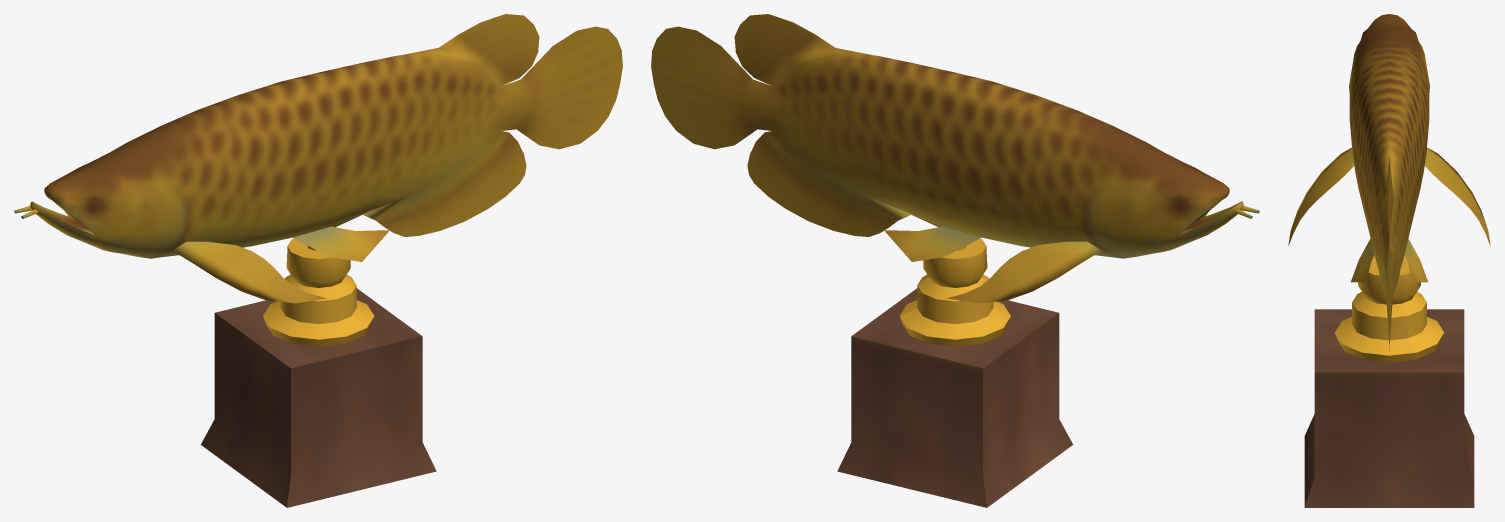
File: golden-arowana.glb
3 renders of one model, left to right at view 1: azimuth 30°, elevation 25°; view 2: azimuth 150°, elevation 25°; view 3: azimuth 270°, elevation 25°, orthographic.
Parts seen in each view (by area): view 1: FishArowana1__mArowana, Piller__mBase; view 2: FishArowana1__mArowana, Piller__mBase; view 3: Piller__mBase, FishArowana1__mArowana.
Boxes of the visible parts, bbox=[...] form: FishArowana1__mArowana: bbox=[14, 14, 622, 303]; Piller__mBase: bbox=[200, 238, 436, 507]; FishArowana1__mArowana: bbox=[651, 14, 1259, 303]; Piller__mBase: bbox=[837, 238, 1073, 507]; Piller__mBase: bbox=[1304, 255, 1474, 507]; FishArowana1__mArowana: bbox=[1288, 14, 1490, 350].
Bounding box in the file's own units: 9.66 × 6.09 × 2.85.
Materials: 2 (2 with a texture image).
